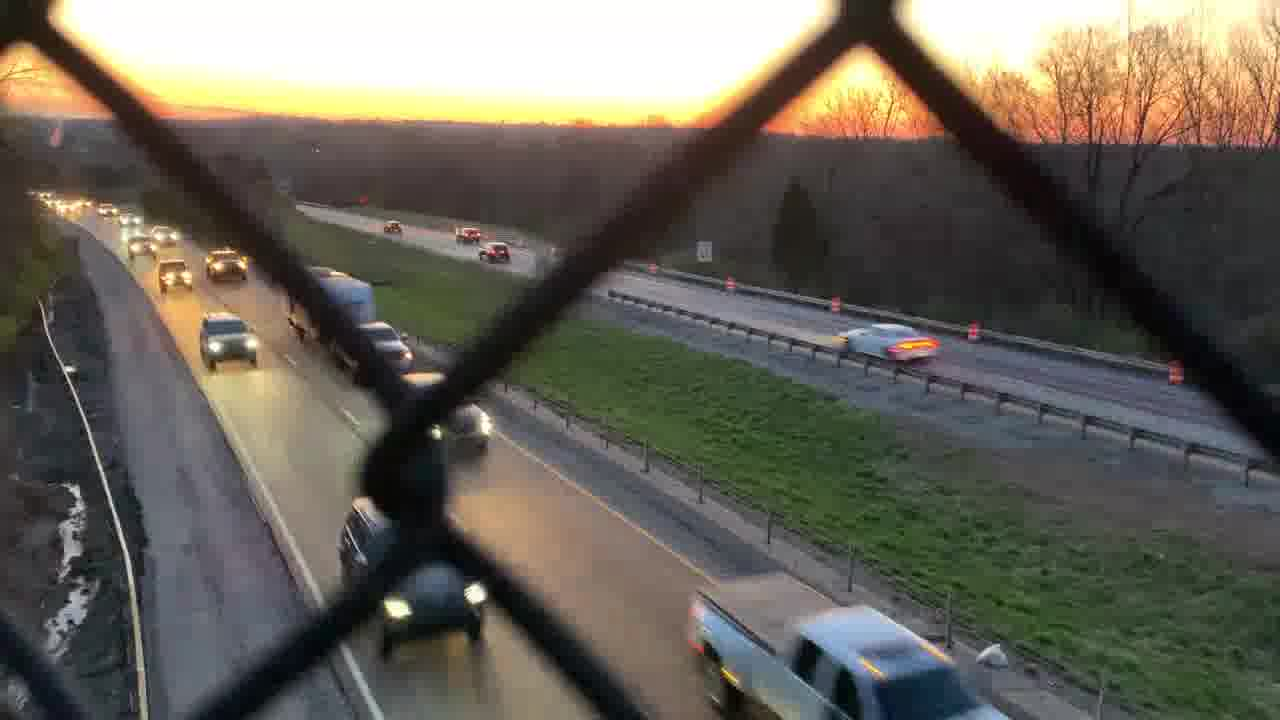largeCar: (200, 310, 261, 373)
lightTruck: (690, 566, 1012, 720)
smallCar: (832, 318, 935, 361)
